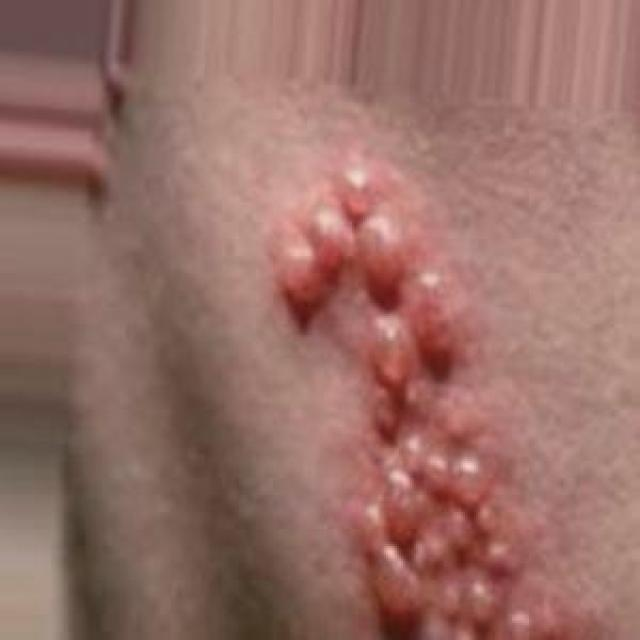Shingles: (276, 163, 535, 640)
